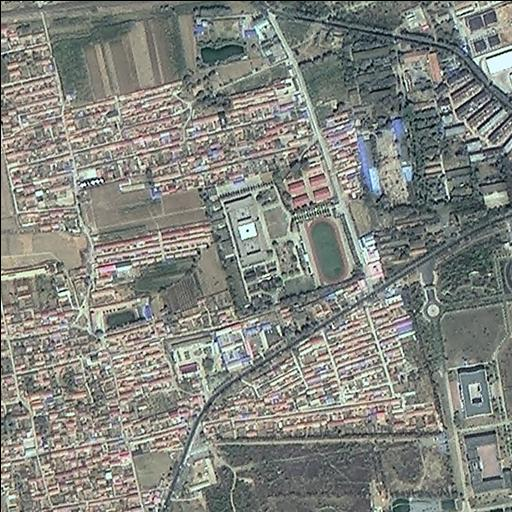school: (221, 183, 359, 311)
